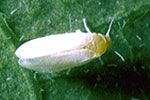whitefly: (14, 19, 126, 74)
